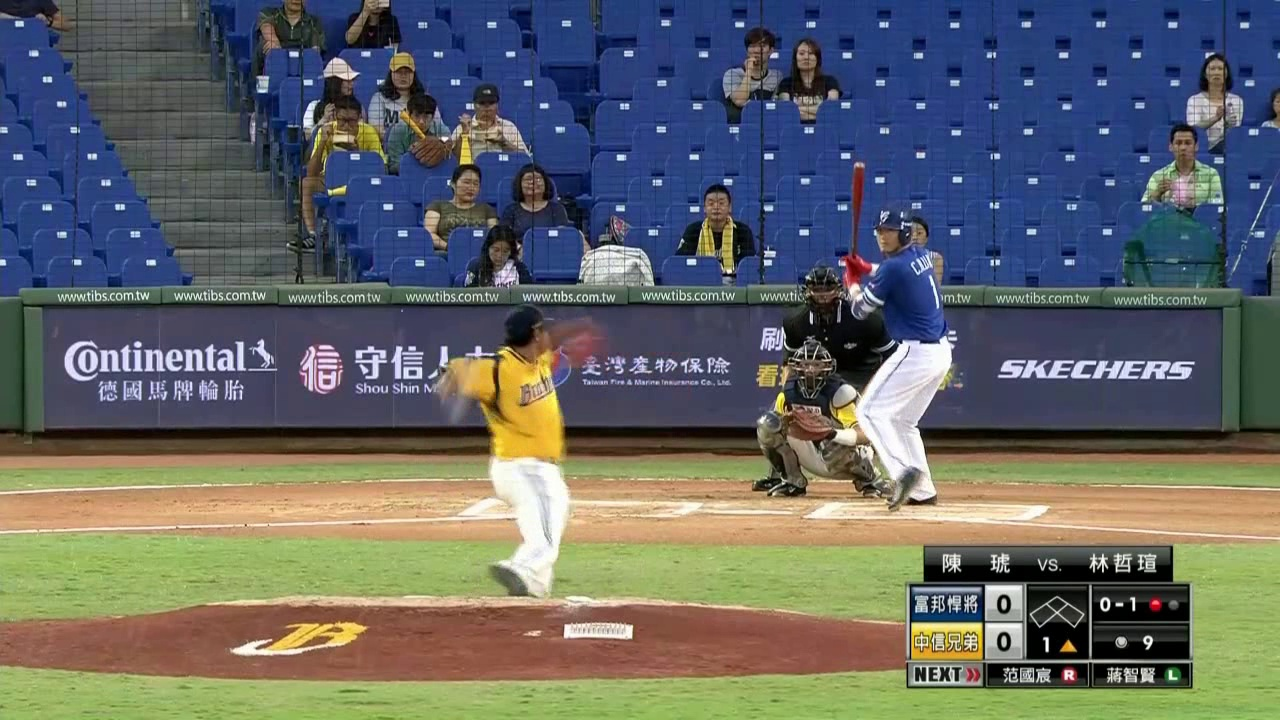ball: (457, 387, 465, 414)
base: (1026, 589, 1089, 629)
bat: (847, 160, 864, 255)
out: (1144, 593, 1182, 615)
score1: (987, 587, 1022, 618)
score2: (988, 628, 1024, 656)
session: (1031, 633, 1085, 658)
strikeball: (1090, 588, 1141, 615)
total: (1105, 631, 1158, 656)
